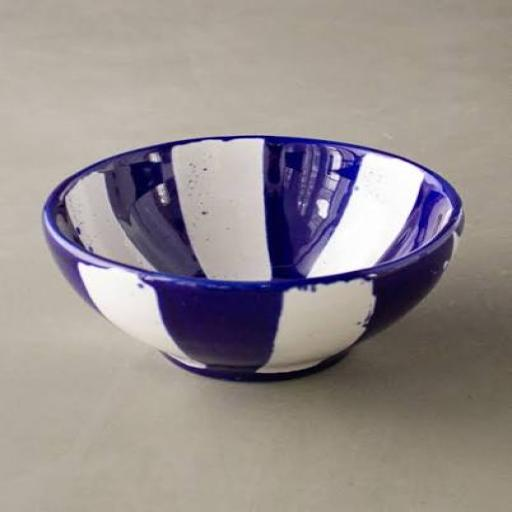Bowl: (43, 135, 464, 381)
